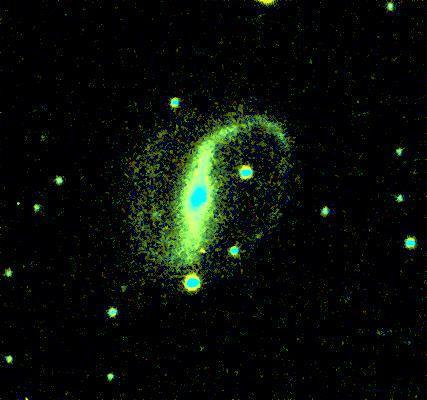star: (187, 238, 217, 268)
